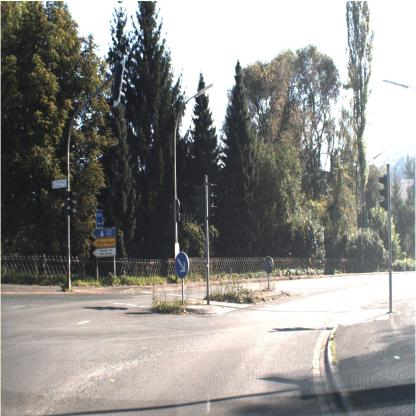keep right: (174, 251, 189, 278)
